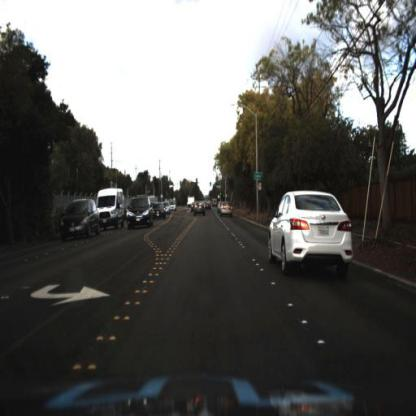car: (266, 188, 354, 274), (58, 197, 102, 244), (96, 188, 126, 236), (123, 193, 154, 233), (221, 197, 237, 219), (194, 200, 208, 220)
